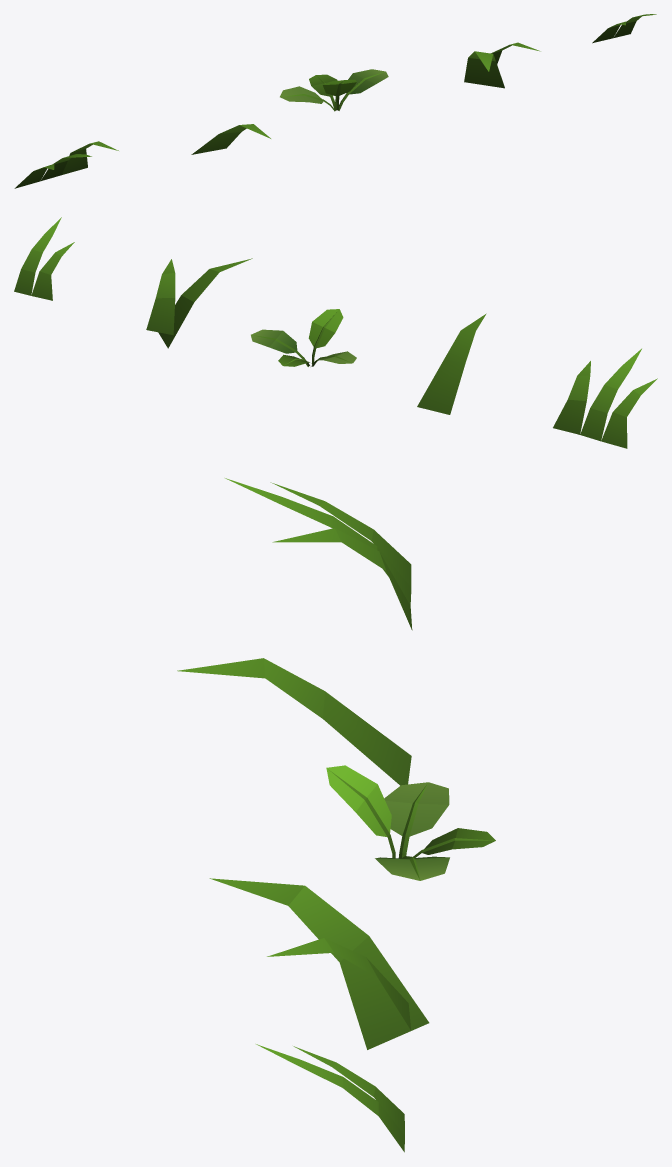
The model's file is Grass.fbx.
The picture shows the model from 3 angles, top to bottom: view 1: azimuth 30°, elevation 25°; view 2: azimuth 150°, elevation 25°; view 3: azimuth 270°, elevation 25°; orthographic projection. The views are drawn at different scales.
Visible parts, largest first — view 1: Trava, Grass.001, Grass.003, Grass.002, Grass.004; view 2: Grass.003, Grass.001, Trava, Grass.002, Grass.004; view 3: Grass.001, Trava, Grass.002, Grass.003, Grass.004.
Part boxes in pixels (x1,y1,x2,y2): Trava: (280, 69, 388, 111); Grass.001: (464, 42, 540, 88); Grass.003: (14, 141, 118, 188); Grass.002: (191, 124, 270, 154); Grass.004: (592, 14, 656, 43); Grass.003: (553, 348, 657, 448); Grass.001: (146, 258, 252, 348); Trava: (251, 309, 356, 366); Grass.002: (417, 313, 486, 414); Grass.004: (14, 217, 74, 300); Grass.001: (209, 878, 429, 1049); Trava: (326, 765, 495, 880); Grass.002: (177, 658, 411, 785); Grass.003: (225, 478, 412, 630); Grass.004: (256, 1044, 404, 1152).
Size of the model in its own units: 394 by 42.52 by 88.99.
Materials: 1 (1 with a texture image).
